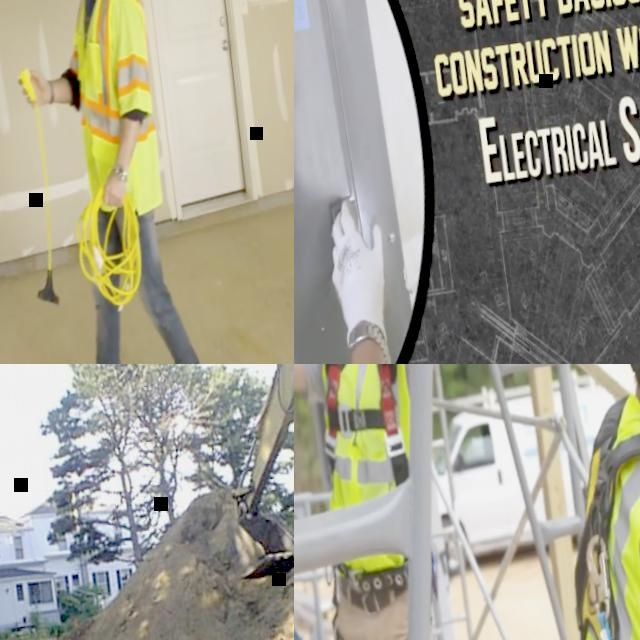Person: (0, 0, 221, 364), (294, 364, 532, 640), (507, 364, 640, 640), (314, 190, 410, 364)
Safety Vest: (523, 384, 640, 640), (304, 364, 437, 570), (57, 0, 166, 164)
machinery: (172, 364, 294, 586)
vehicle: (418, 375, 635, 582)
